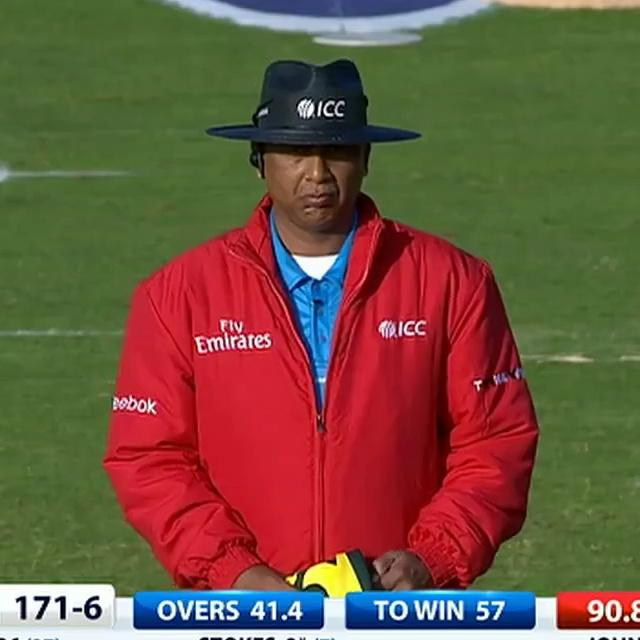umpire: (82, 37, 562, 591)
